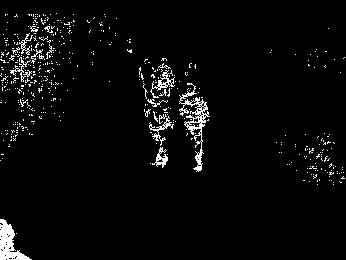person: (176, 80, 212, 173), (144, 86, 174, 168)
